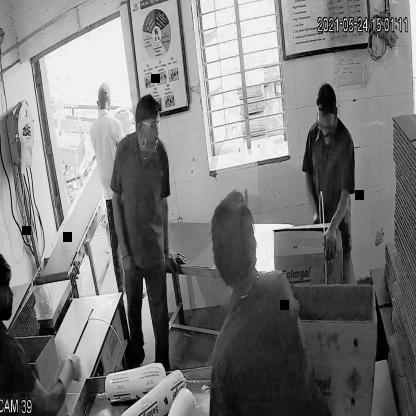goggles: (133, 117, 164, 136)
